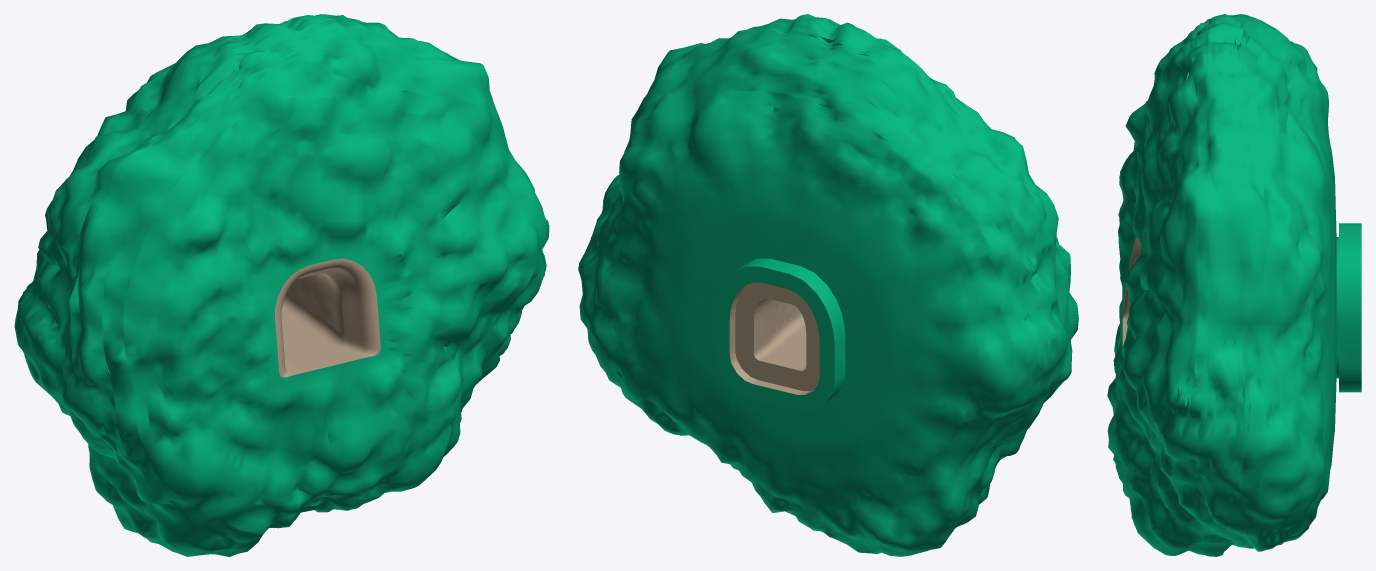
Rendered from TT_C_Entry_Horizontal.fbx.
3 renders of one model, left to right at view 1: azimuth 30°, elevation 25°; view 2: azimuth 150°, elevation 25°; view 3: azimuth 270°, elevation 25°, orthographic. The views are drawn at different scales.
Parts seen in each view (by area): view 1: TT_C_Entry_Horizontal_LOD0; view 2: TT_C_Entry_Horizontal_LOD0; view 3: TT_C_Entry_Horizontal_LOD0.
Boxes of the visible parts, x1,y1,x2,y2 form: TT_C_Entry_Horizontal_LOD0: (14, 14, 549, 556); TT_C_Entry_Horizontal_LOD0: (578, 14, 1078, 556); TT_C_Entry_Horizontal_LOD0: (1107, 14, 1361, 556).
Bounding box in the file's own units: 1268 × 1267 × 559.
